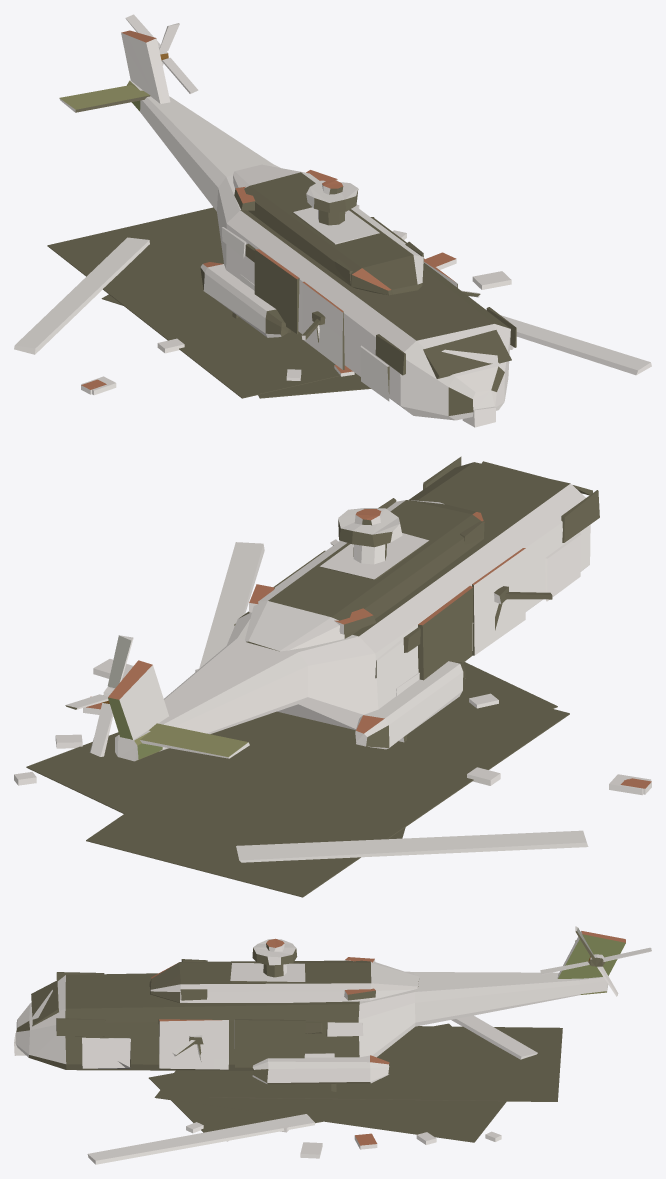
File: SM_RestosNH90_v4_LOD0.fbx
3 renders of one model, top to bottom at view 1: azimuth 30°, elevation 25°; view 2: azimuth 150°, elevation 25°; view 3: azimuth 270°, elevation 25°, orthographic. The views are drawn at different scales.
Visible parts, largest first — view 1: SM_bloques.restos_nh90_v4_LOD0; view 2: SM_bloques.restos_nh90_v4_LOD0; view 3: SM_bloques.restos_nh90_v4_LOD0.
Boxes of the visible parts, x1,y1,x2,y2 form: SM_bloques.restos_nh90_v4_LOD0: [14, 14, 651, 427]; SM_bloques.restos_nh90_v4_LOD0: [14, 456, 651, 897]; SM_bloques.restos_nh90_v4_LOD0: [14, 926, 651, 1164].
Size of the model in its own units: 12.33 by 4.71 by 17.38.
